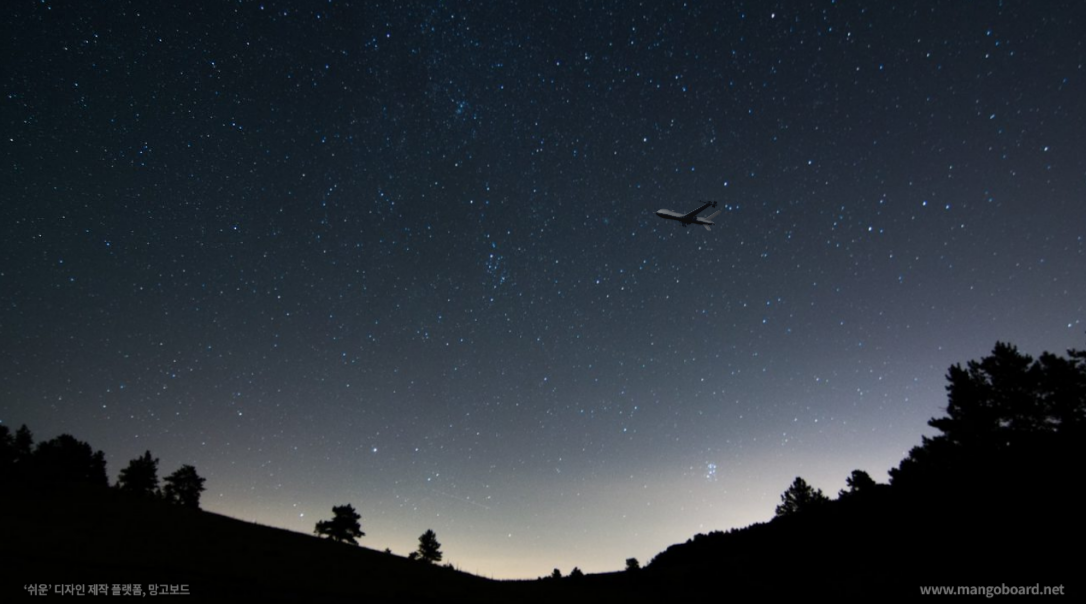military drone: (652, 199, 722, 231)
